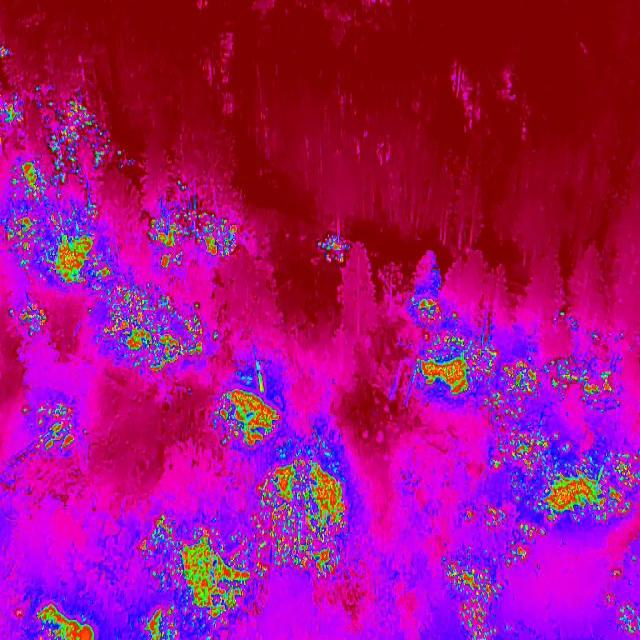fire: (399, 288, 628, 419), (465, 406, 640, 552), (0, 75, 116, 295), (244, 430, 358, 584), (138, 509, 258, 640), (80, 276, 225, 379), (150, 199, 250, 280), (433, 541, 514, 640), (208, 376, 294, 450), (24, 400, 78, 456), (37, 595, 103, 640), (4, 292, 51, 342), (601, 574, 640, 634), (313, 234, 361, 266)
